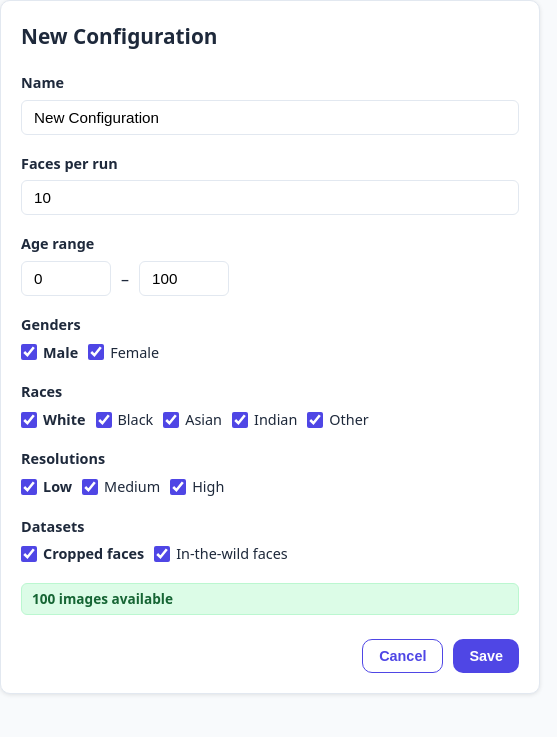
Test: ConfigForm validation › shows error when no gender is selected
Uncheck both genders
Click the checkbox labelled "Male" at (29, 352), box [21,344,37,360]
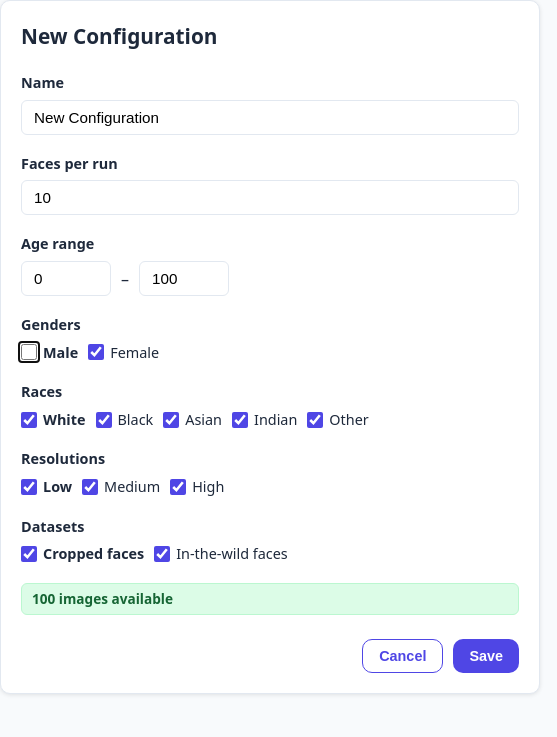
Click the checkbox labelled "Female" at (96, 352), box [88,344,104,360]
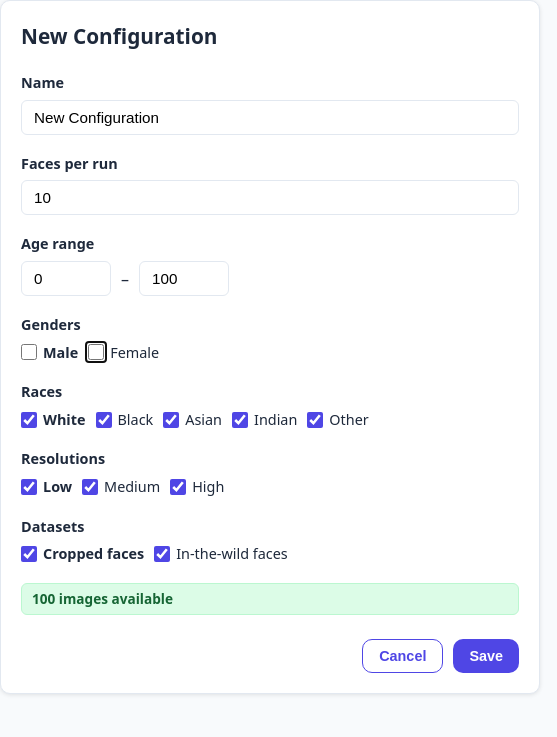
Click the button "Save" at (486, 656), box [453,639,519,673]
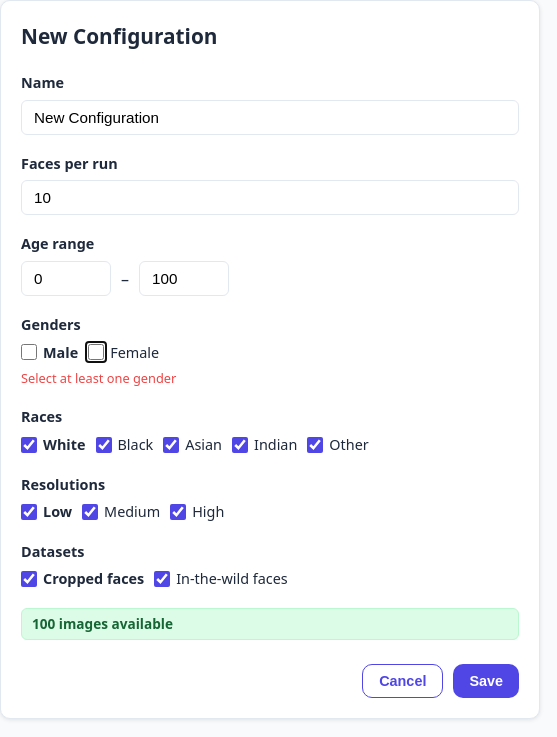
Now the text "Select at least one gender" is shown, box [21,369,176,387]
